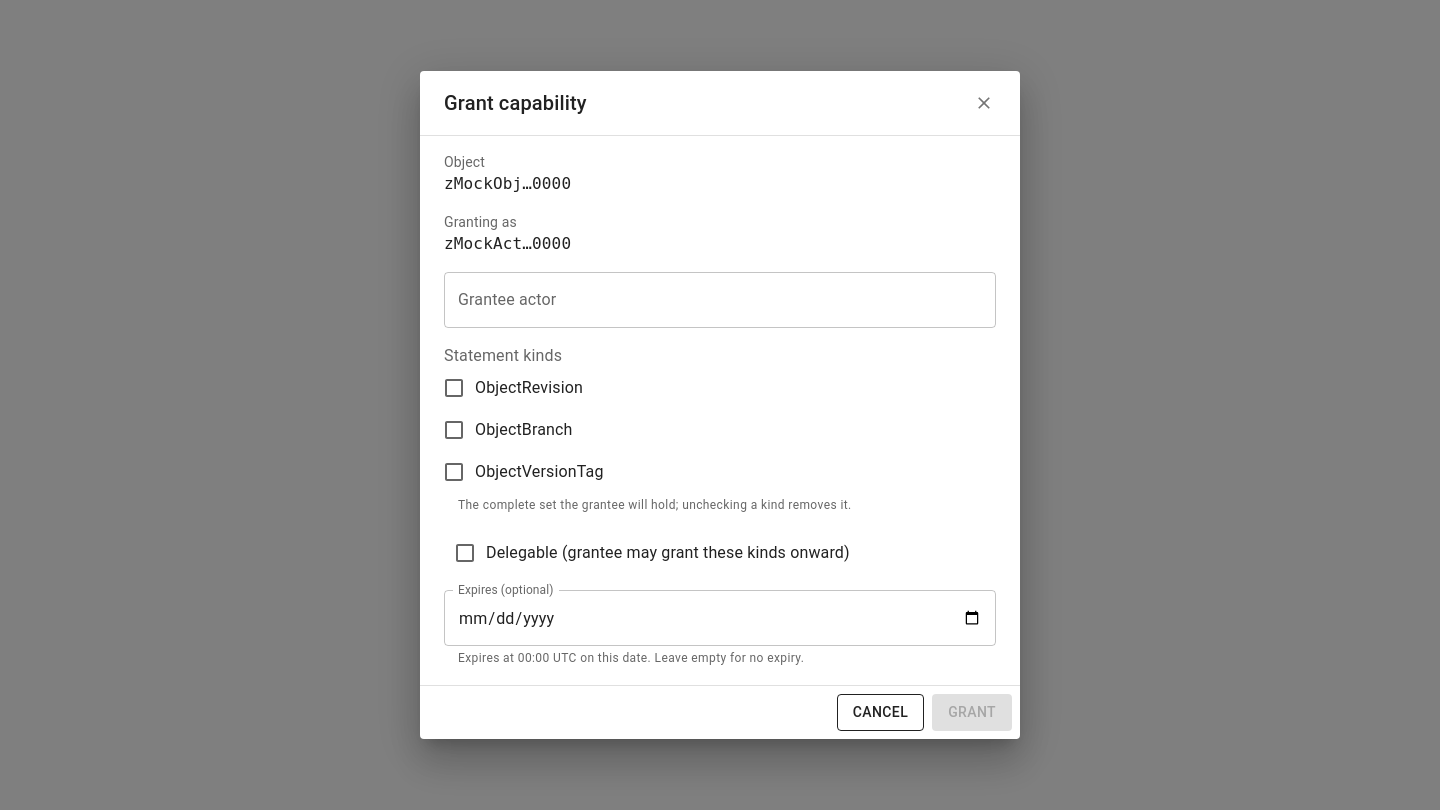
<CapabilityGrantDialog /> › requires a grantee and at least one kind
Expected: the button with test id "capability-grant-submit" is disabled, [932,694,1012,731]
Step 1. Click the dropdown with test id "capability-grantee-input" → [705, 300], box [453,281,957,319]
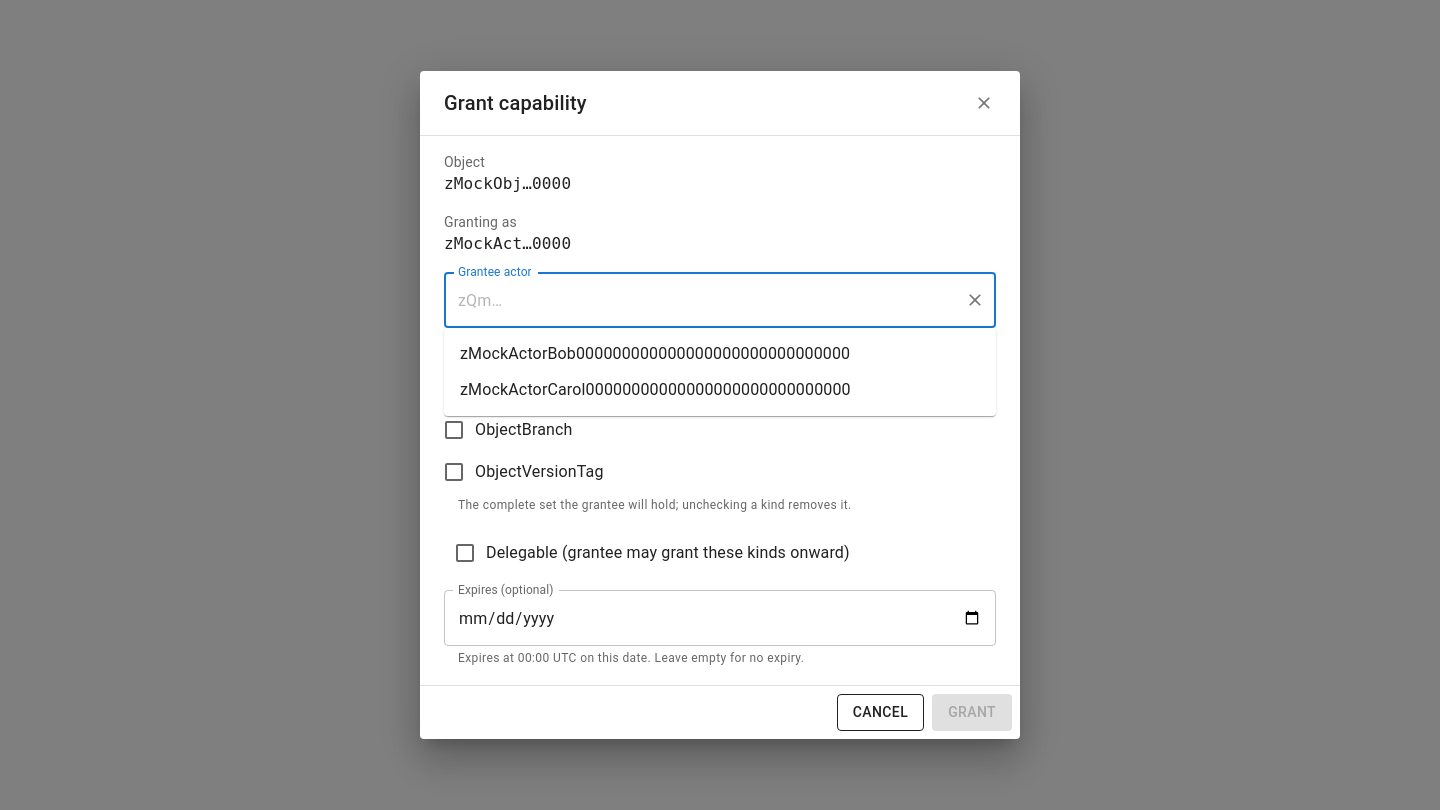
Step 2. Type keys "zMockActorCarol00000000000000000000000000000"
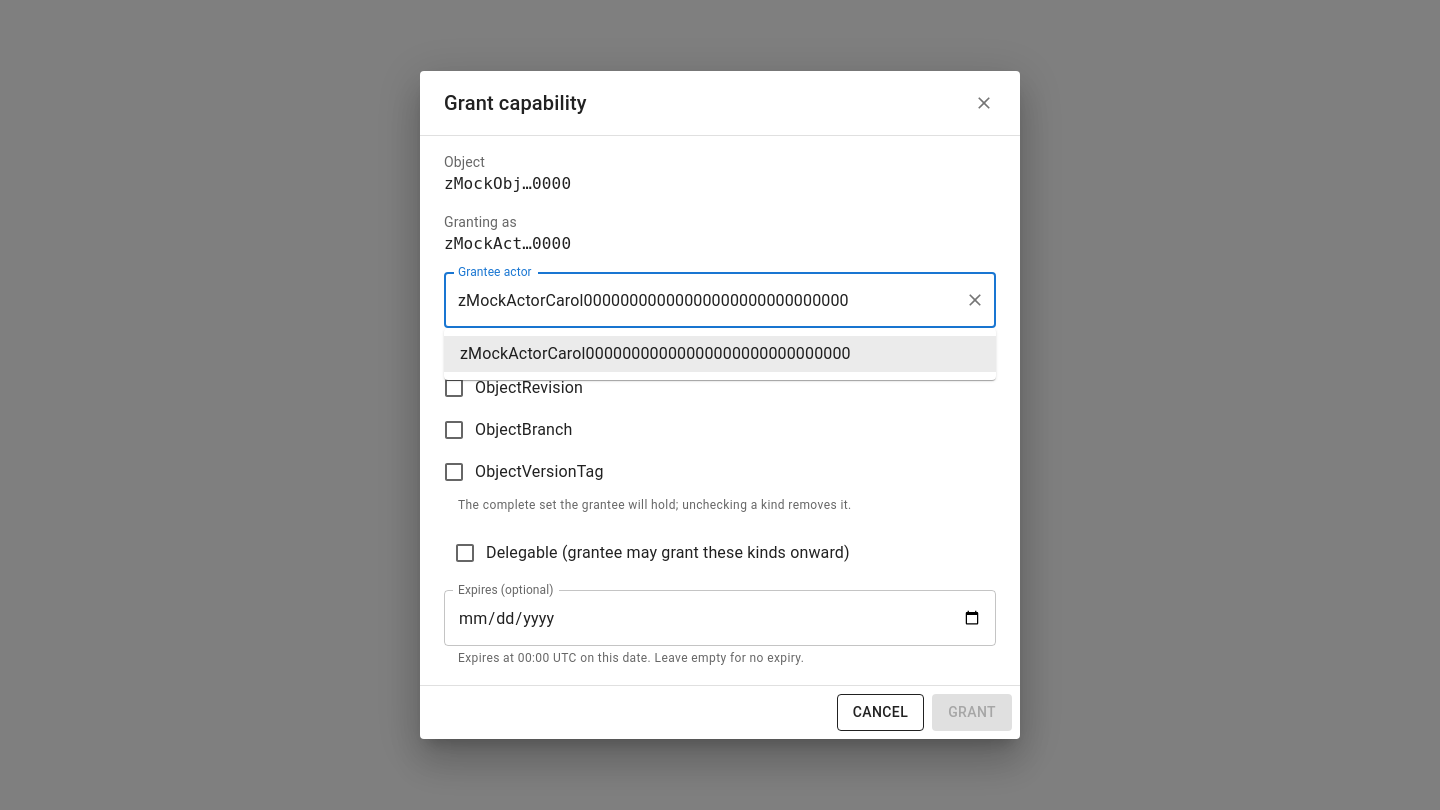
Expected: the button with test id "capability-grant-submit" is disabled, [932,694,1012,731]
Step 3. Click the checkbox with test id "capability-kind-ObjectBranch" → [507, 430], box [442,418,572,442]
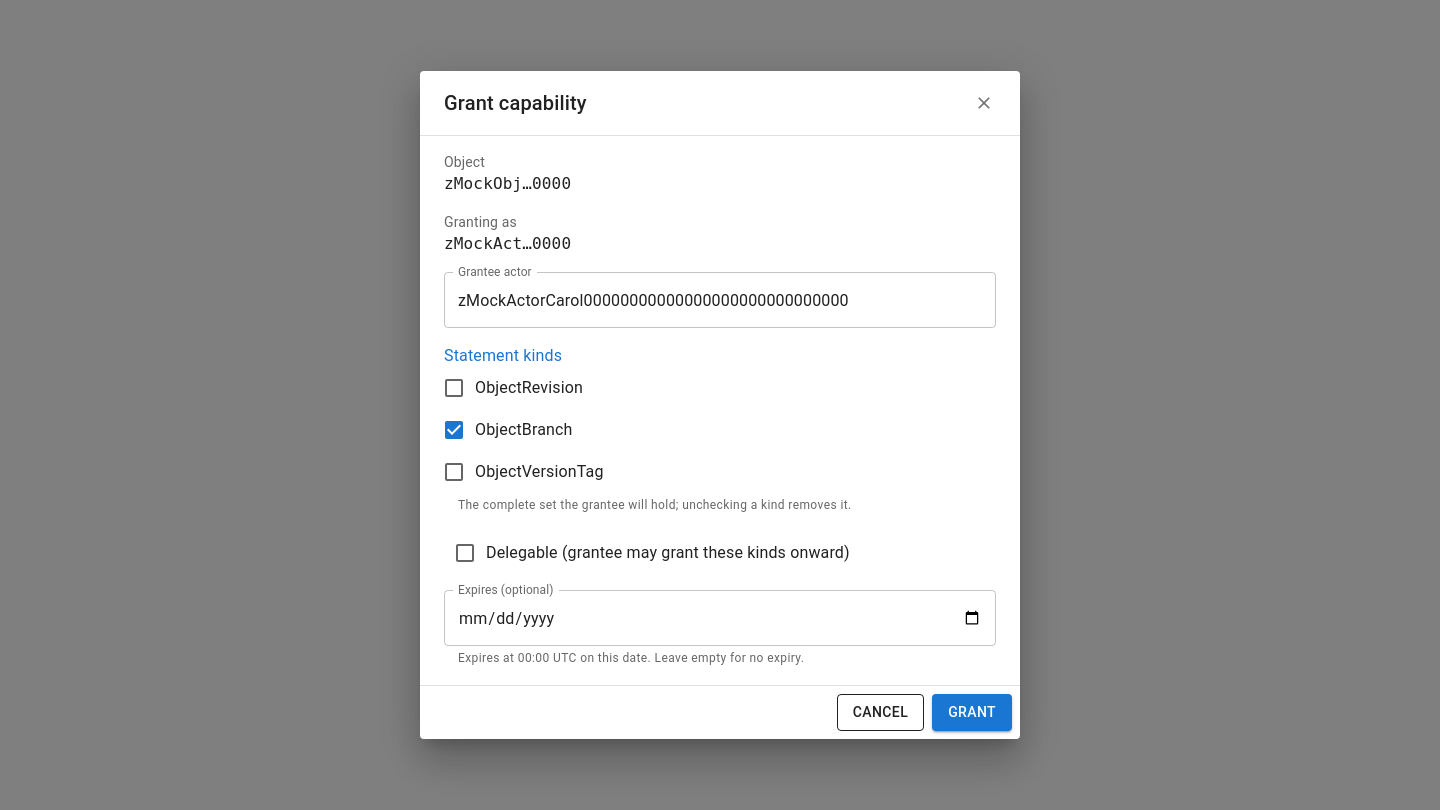
Expected: the button with test id "capability-grant-submit" reads "Grant", [932,694,1012,731]
Expected: the button with test id "capability-grant-submit" is enabled, [932,694,1012,731]
